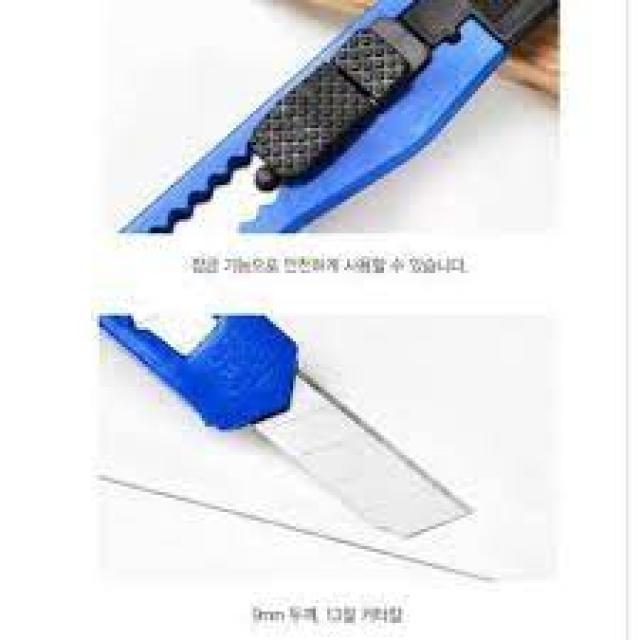cutter: (113, 1, 558, 234), (100, 313, 479, 553)
